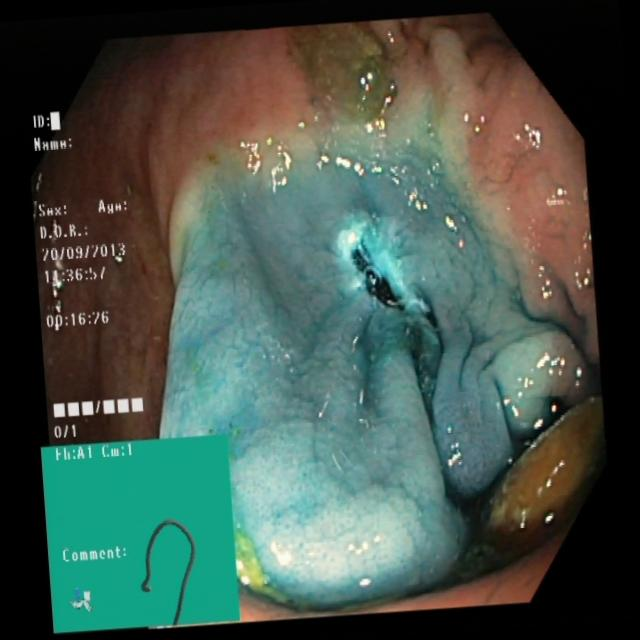dyed-resection-margins: (321, 190, 445, 351), (273, 16, 411, 129)
